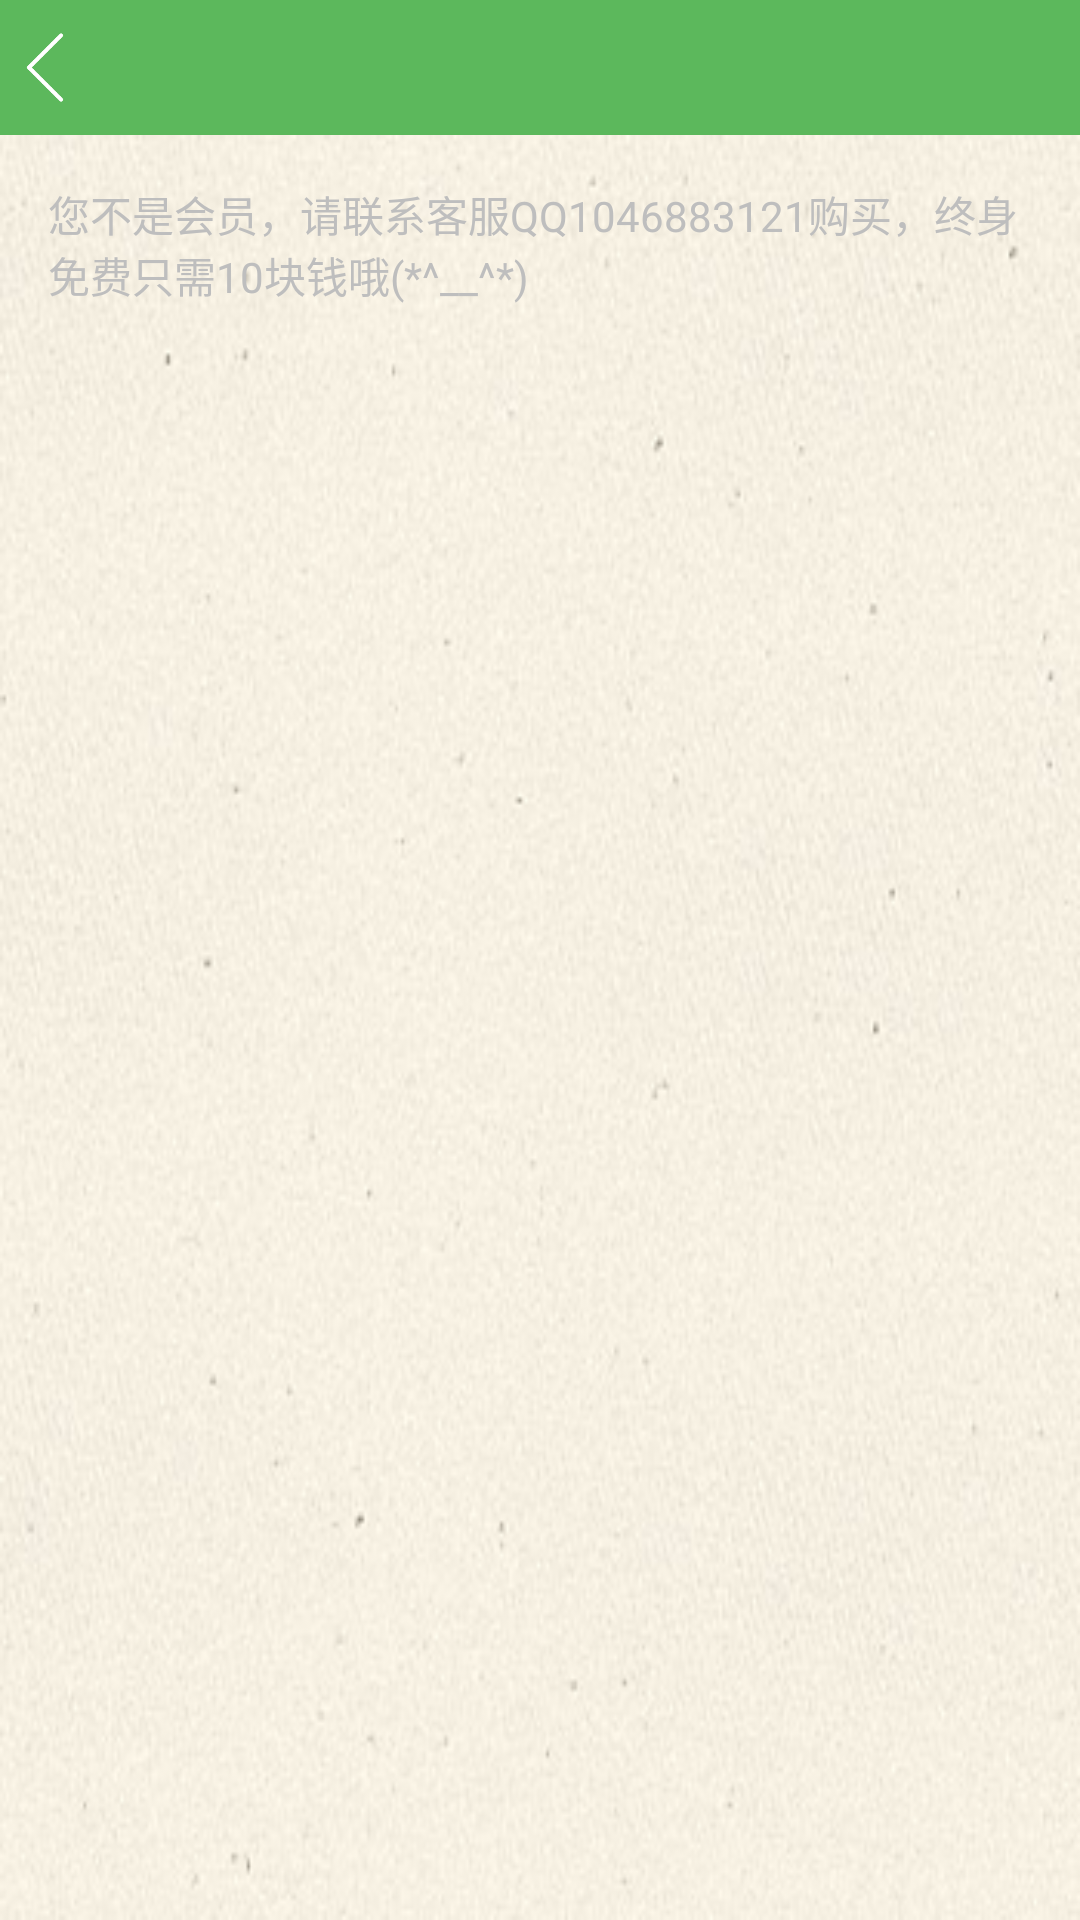

Where to tap for icons on this 1080px x 1920px app screen, as point (x, y):
back: point (45, 67)
